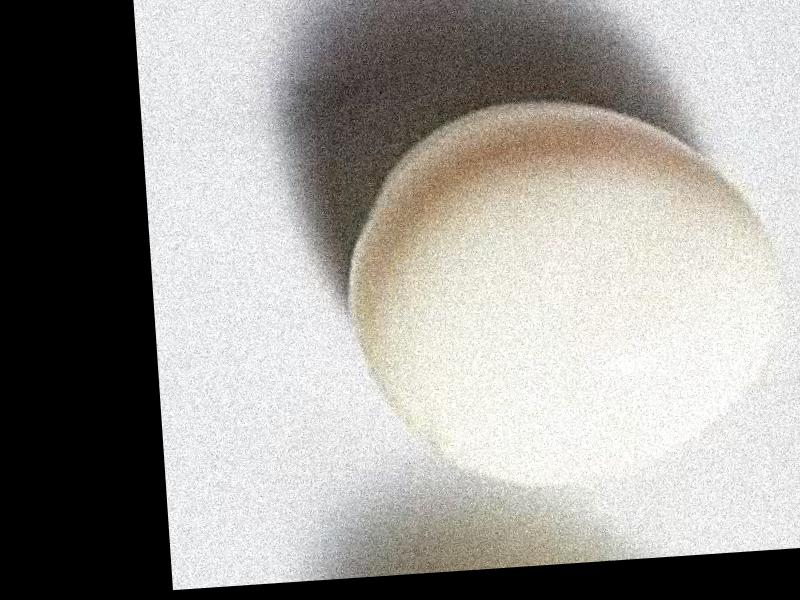Eggs: (335, 86, 788, 498)
